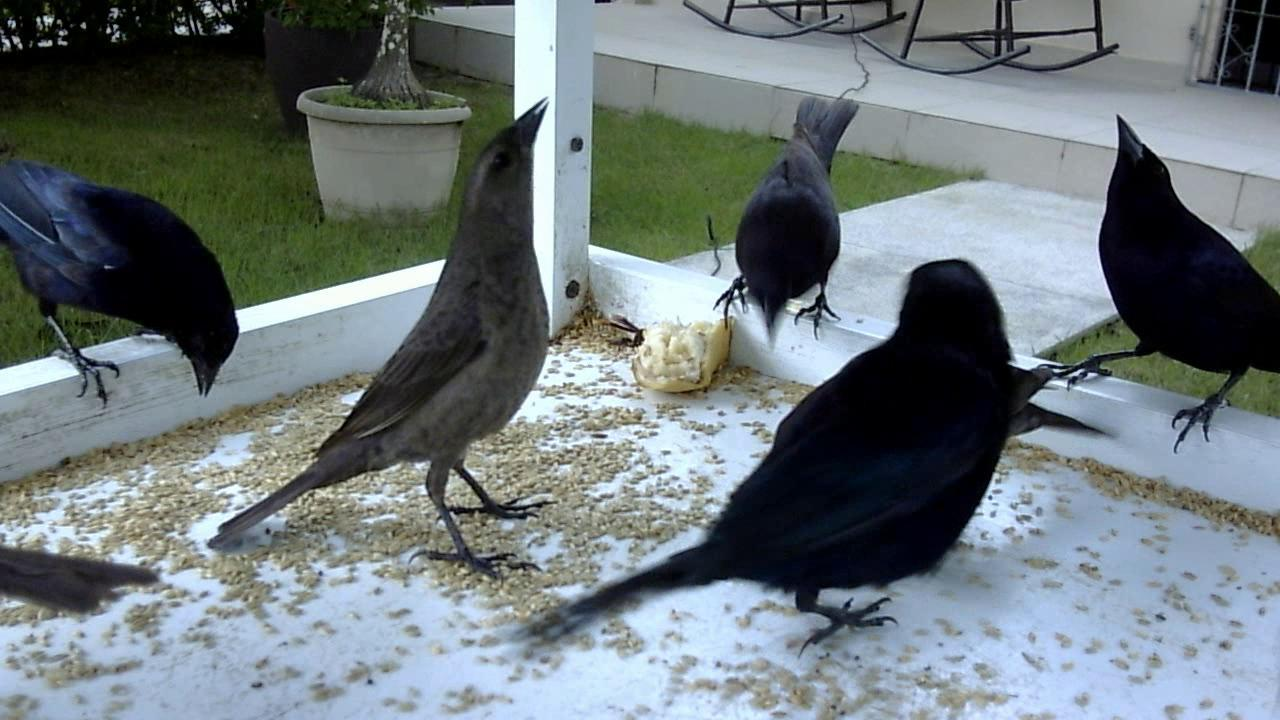chupim: (520, 247, 1109, 675), (203, 105, 569, 593), (1027, 105, 1280, 458), (1, 146, 255, 428), (706, 89, 876, 351)
